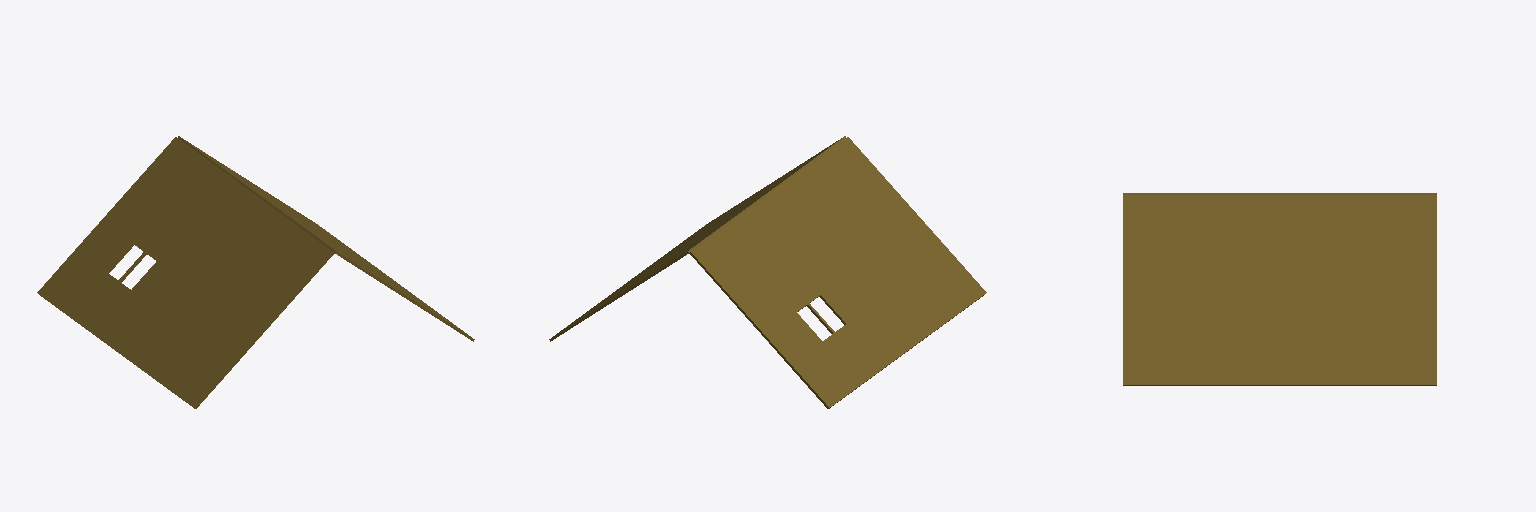
The model's file is roof_support.obj.
3 renders of one model, left to right at view 1: azimuth 30°, elevation 25°; view 2: azimuth 150°, elevation 25°; view 3: azimuth 270°, elevation 25°, orthographic.
Visible parts, largest first — view 1: roof_support; view 2: roof_support; view 3: roof_support.
Part boxes in pixels (x1,y1,x2,y2): roof_support: (37, 136, 474, 408); roof_support: (549, 136, 986, 408); roof_support: (1123, 193, 1436, 385).
Size of the model in its own units: 11.52 by 4.87 by 11.19.